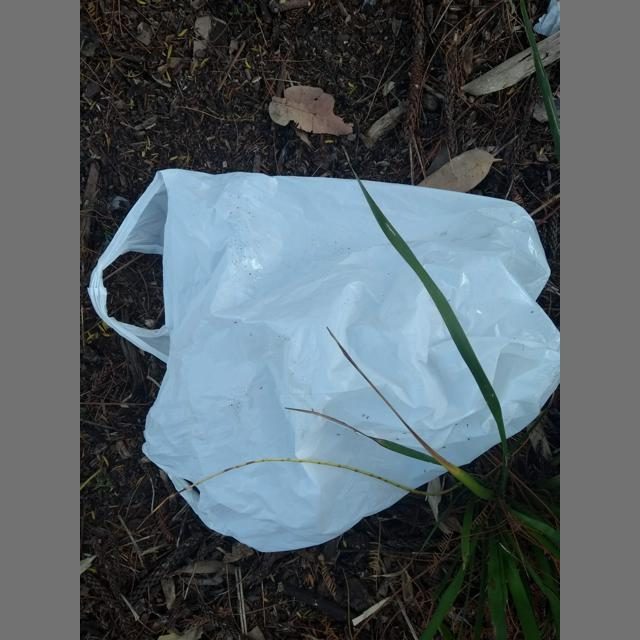litter: (87, 169, 559, 552), (533, 0, 559, 37)
